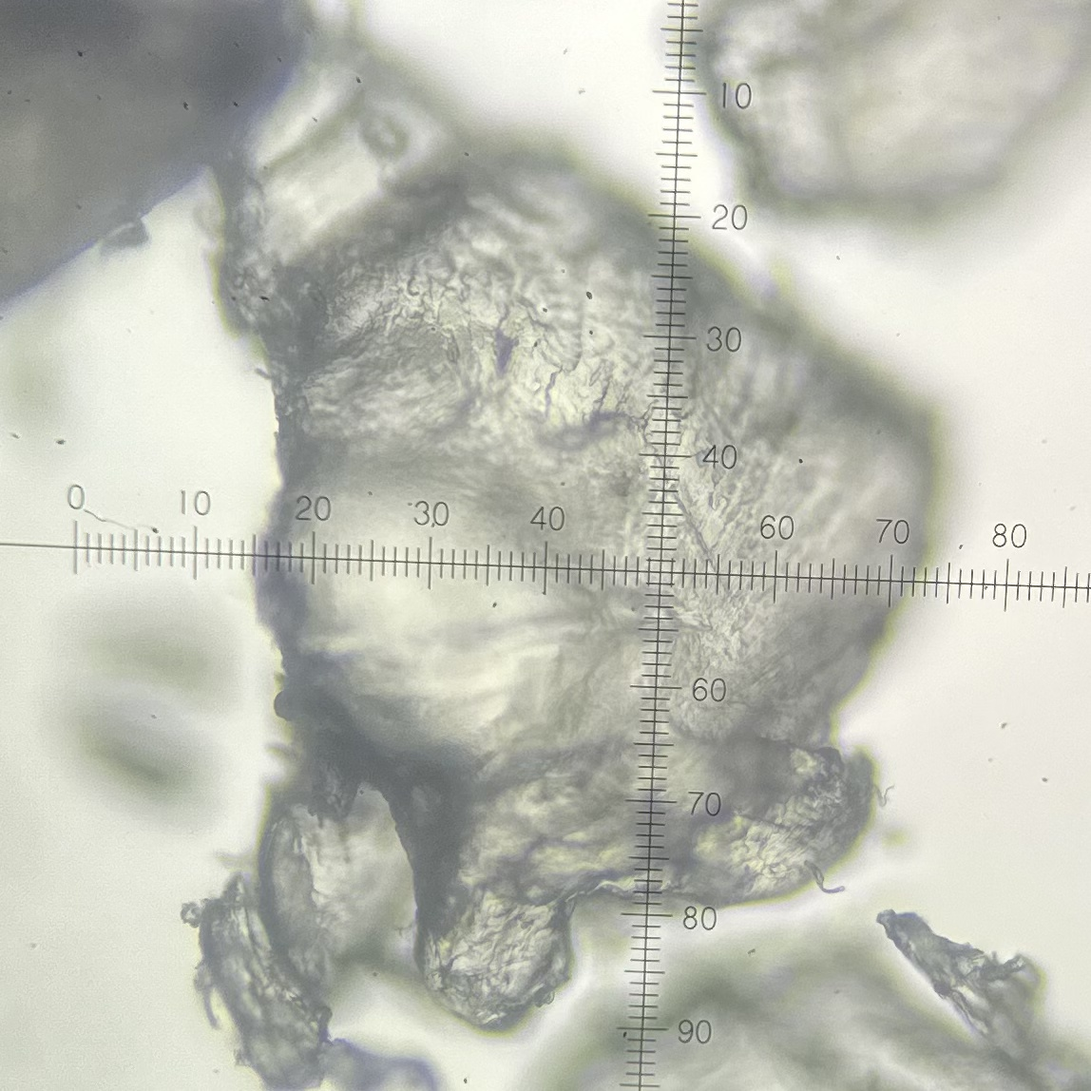microplastic: (206, 16, 939, 1038), (1, 1, 317, 314), (693, 1, 1091, 219), (179, 868, 337, 1091), (873, 905, 1044, 1062), (303, 1035, 441, 1091)
